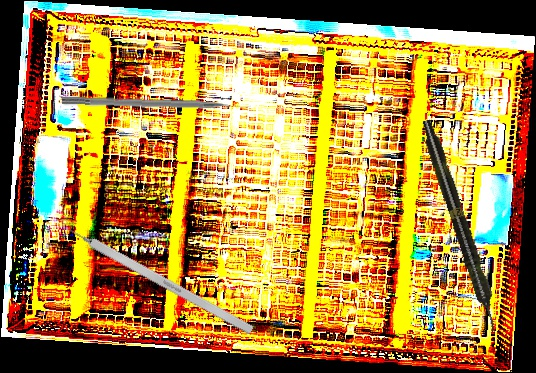Handpiece: (417, 117, 504, 336)
Hook Surgical: (50, 215, 255, 336)
Pusher: (61, 95, 252, 114)
